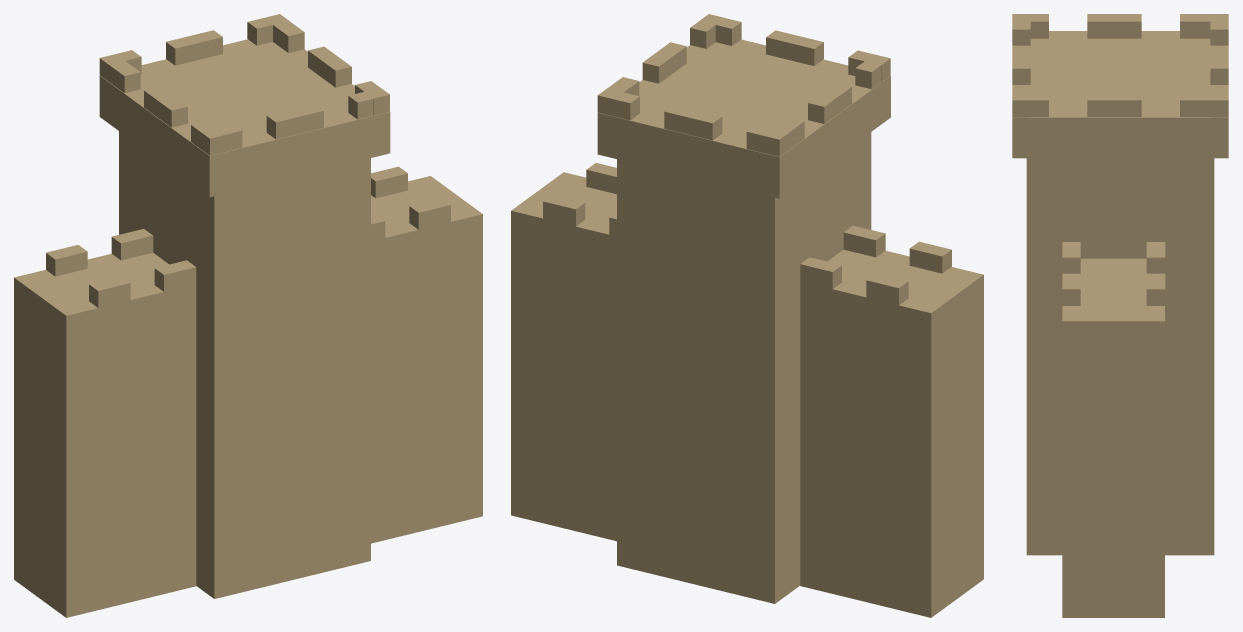
Rendered from jumper_walltower_A.FBX.
The picture shows the model from 3 angles, left to right: view 1: azimuth 30°, elevation 25°; view 2: azimuth 150°, elevation 25°; view 3: azimuth 270°, elevation 25°; orthographic projection. The views are drawn at different scales.
Parts seen in each view (by area): view 1: Box170, Box201, Box184, Box171, Box176, Box174, Box179, Box182, Box198, Box197, Box196, Box199 (+9 smaller); view 2: Box170, Box201, Box184, Box171, Box174, Box176, Box179, Box182, Box172, Box200, Box188, Box199 (+8 smaller); view 3: Box170, Box184, Box171, Box179, Box182, Box178, Box181, Box174, Box176, Box188, Box185, Box196 (+7 smaller).
Part boxes in pixels (<box>): Box170: <box>119,131,370,598</box>; Box201: <box>14,253,196,617</box>; Box184: <box>371,176,482,543</box>; Box171: <box>99,39,390,197</box>; Box176: <box>266,104,323,139</box>; Box174: <box>166,30,222,65</box>; Box179: <box>308,46,351,87</box>; Box182: <box>144,86,187,127</box>; Box198: <box>154,260,196,291</box>; Box197: <box>111,229,153,260</box>; Box196: <box>409,198,450,229</box>; Box199: <box>89,276,130,307</box>; Box170: <box>617,132,871,603</box>; Box201: <box>800,249,983,617</box>; Box184: <box>511,172,616,541</box>; Box171: <box>597,39,890,198</box>; Box174: <box>664,105,722,140</box>; Box176: <box>766,30,823,65</box>; Box179: <box>642,42,686,83</box>; Box182: <box>808,82,851,123</box>; Box172: <box>746,125,788,156</box>; Box200: <box>866,273,908,305</box>; Box188: <box>543,194,585,226</box>; Box199: <box>909,241,951,273</box>; Box170: <box>1026,158,1214,555</box>; Box184: <box>1062,258,1164,617</box>; Box171: <box>1012,31,1228,158</box>; Box179: <box>1087,92,1141,116</box>; Box182: <box>1087,14,1141,38</box>; Box178: <box>1180,92,1216,116</box>; Box181: <box>1180,14,1216,38</box>; Box174: <box>1210,45,1228,84</box>; Box176: <box>1012,45,1030,84</box>; Box188: <box>1146,273,1165,305</box>; Box185: <box>1146,242,1165,273</box>; Box196: <box>1062,273,1080,305</box>.
Bounding box in the file's own units: 256 × 276 × 117.
